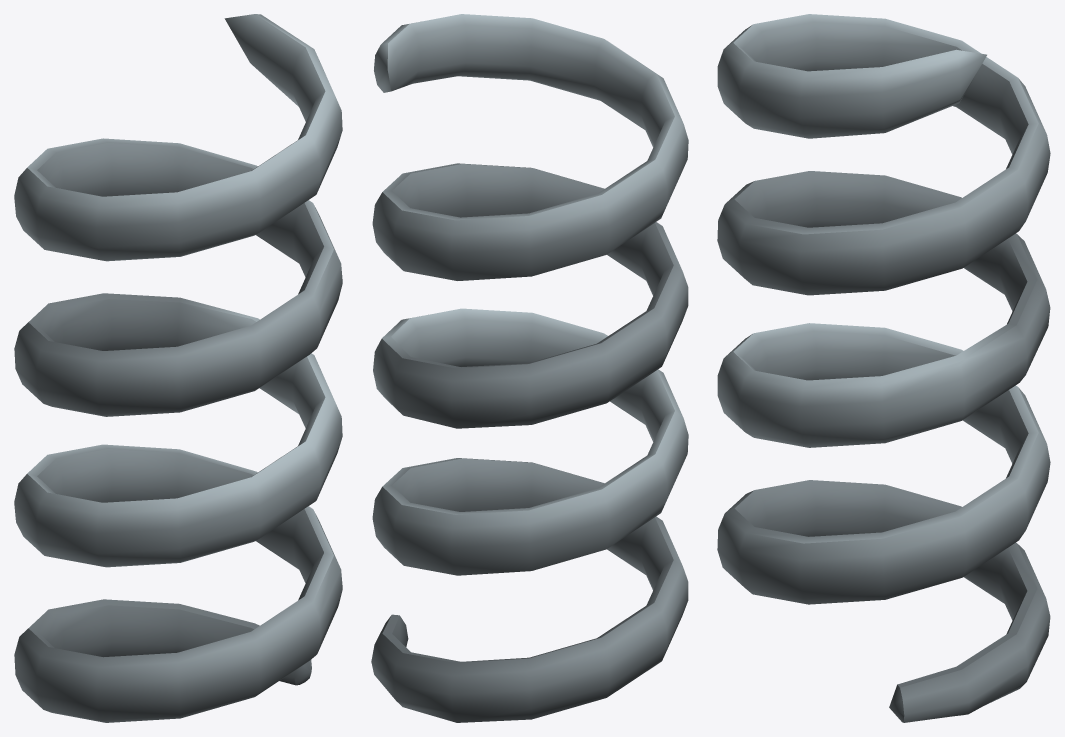
Rendered from ressort.glb.
3 renders of one model, left to right at view 1: azimuth 30°, elevation 25°; view 2: azimuth 150°, elevation 25°; view 3: azimuth 270°, elevation 25°, orthographic. The views are drawn at different scales.
Visible parts, largest first — view 1: spring; view 2: spring; view 3: spring.
Boxes of the visible parts, x1,y1,x2,y2 form: spring: (14, 14, 342, 722); spring: (371, 14, 688, 722); spring: (717, 14, 1050, 722).
Size of the model in its own units: 1 by 2.2 by 1.
Materials: 1 (1 with a texture image).
